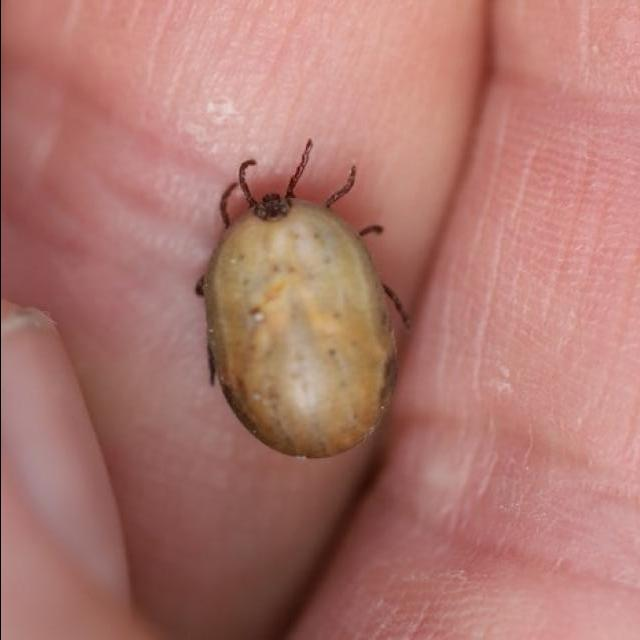Dermacentor Reticulatus-F-Fed: (194, 139, 408, 458)
